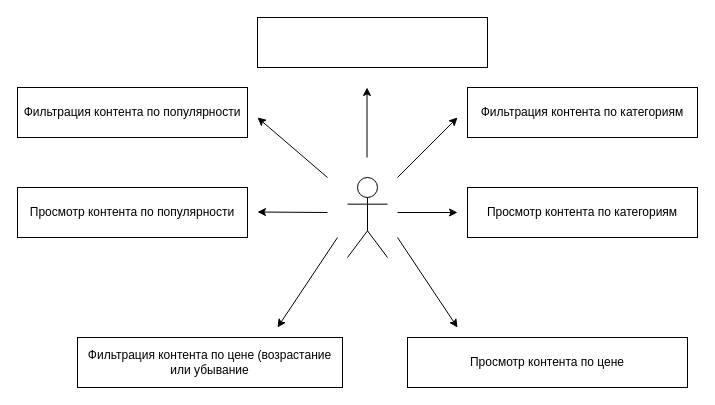
The diagram is 715 pixels wide and 405 high, and some of its shapes have lost their labels. Here are the shapes that lost their labels. From the top down, the box of each, then its label:
(256, 16, 488, 68): Поиск по контенту
(346, 176, 388, 258): Пользователь
